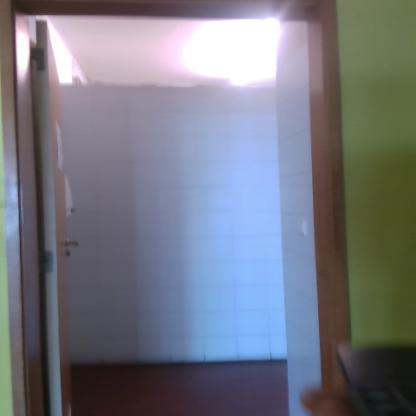open: (2, 2, 356, 416)
